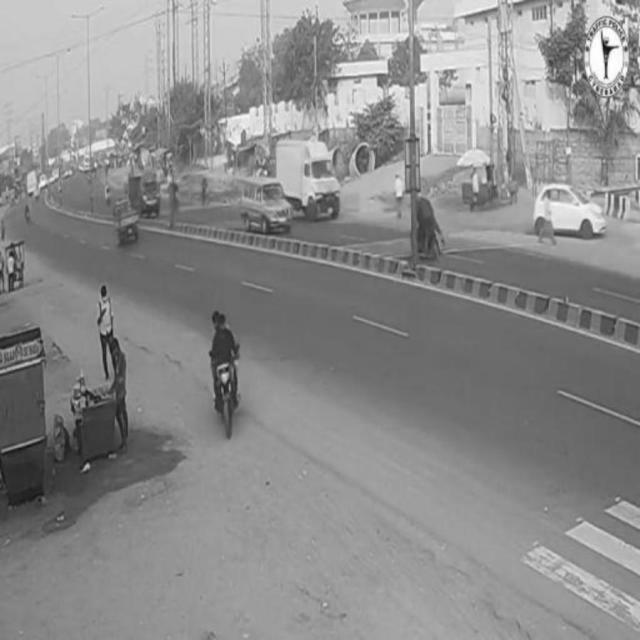accident: (412, 192, 444, 268)
person: (95, 289, 123, 379), (108, 340, 130, 452)
vehicle: (274, 140, 340, 213), (530, 187, 608, 248), (212, 307, 242, 444), (244, 167, 288, 234), (129, 175, 164, 217)
